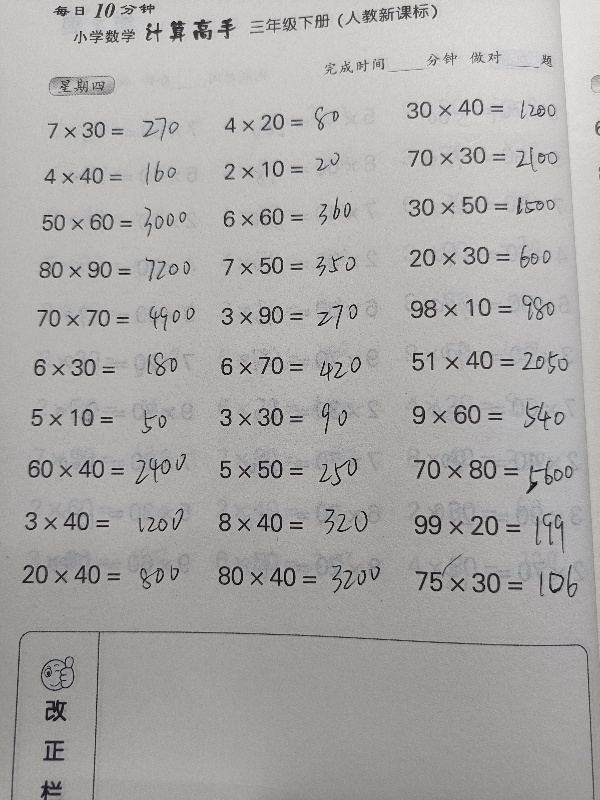equation: (405, 451, 585, 501), (414, 557, 582, 609), (34, 200, 214, 245), (210, 502, 390, 545), (401, 285, 581, 327), (213, 297, 393, 337), (215, 99, 395, 139), (402, 238, 582, 277), (401, 342, 582, 380), (398, 138, 578, 176), (406, 507, 586, 543), (214, 248, 394, 284), (399, 187, 579, 223), (209, 558, 389, 593), (14, 557, 194, 592), (212, 452, 392, 487), (404, 397, 584, 432), (17, 504, 197, 538), (20, 452, 200, 486), (212, 400, 392, 434), (211, 348, 391, 382), (23, 401, 203, 434), (25, 351, 205, 384), (29, 301, 209, 334), (31, 254, 211, 287), (214, 200, 394, 233), (398, 91, 578, 124), (36, 160, 216, 192), (215, 153, 395, 185), (39, 114, 219, 146)
